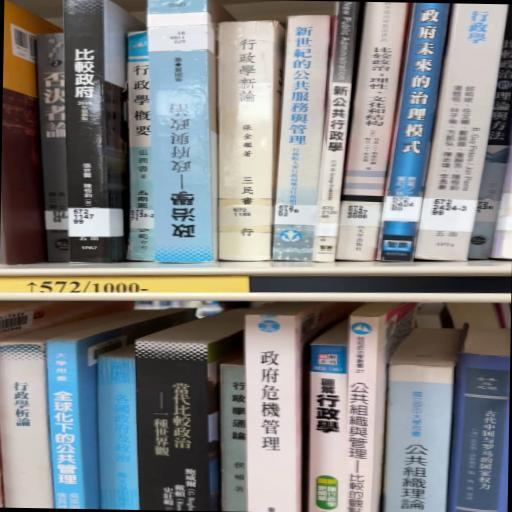reverse: (147, 0, 233, 262)
